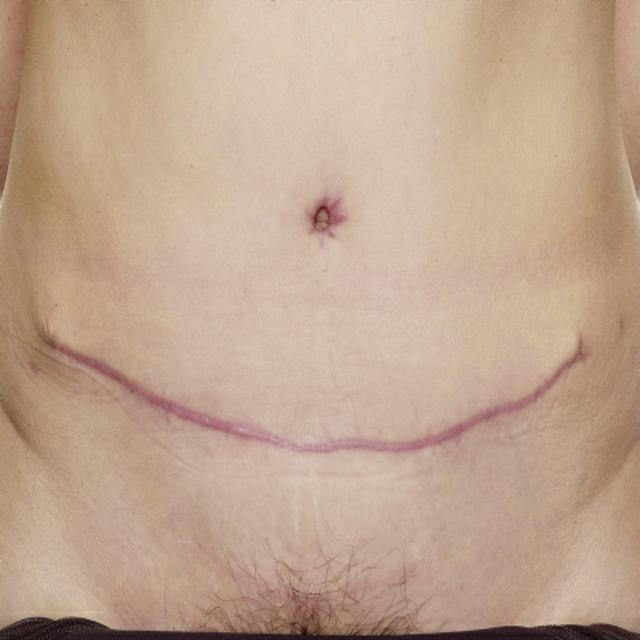wound: (33, 315, 591, 458)
